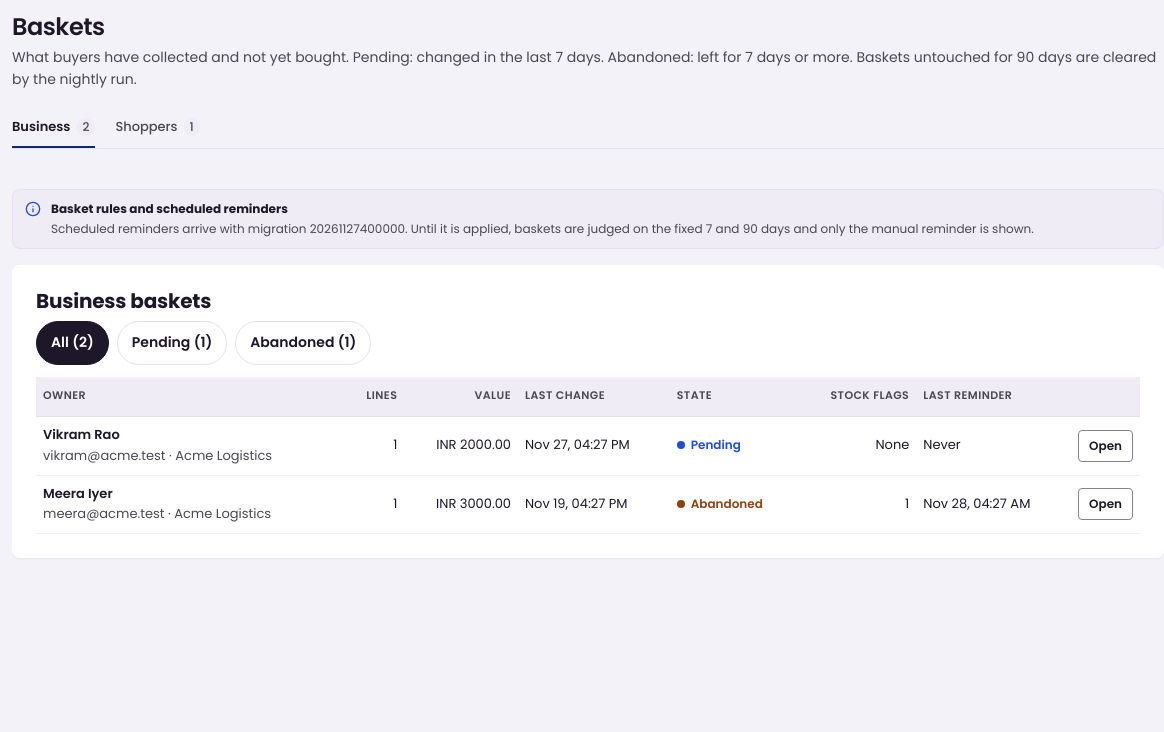
OperatorBaskets › says a sent reminder, and shoppers are reminded by user id
Click the tab "Shoppers 1". click: (158,127)
box: [115, 107, 200, 148]
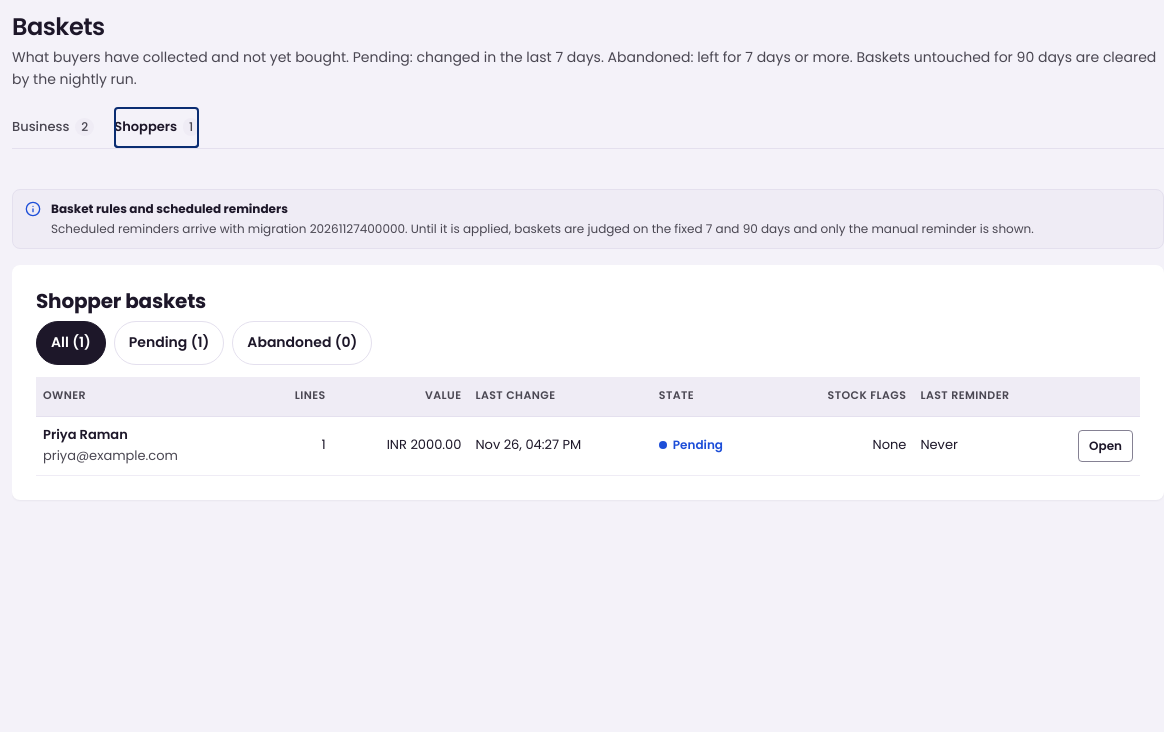
Click the button named "Open Priya Raman". click: (1106,446)
box: [1078, 430, 1133, 462]
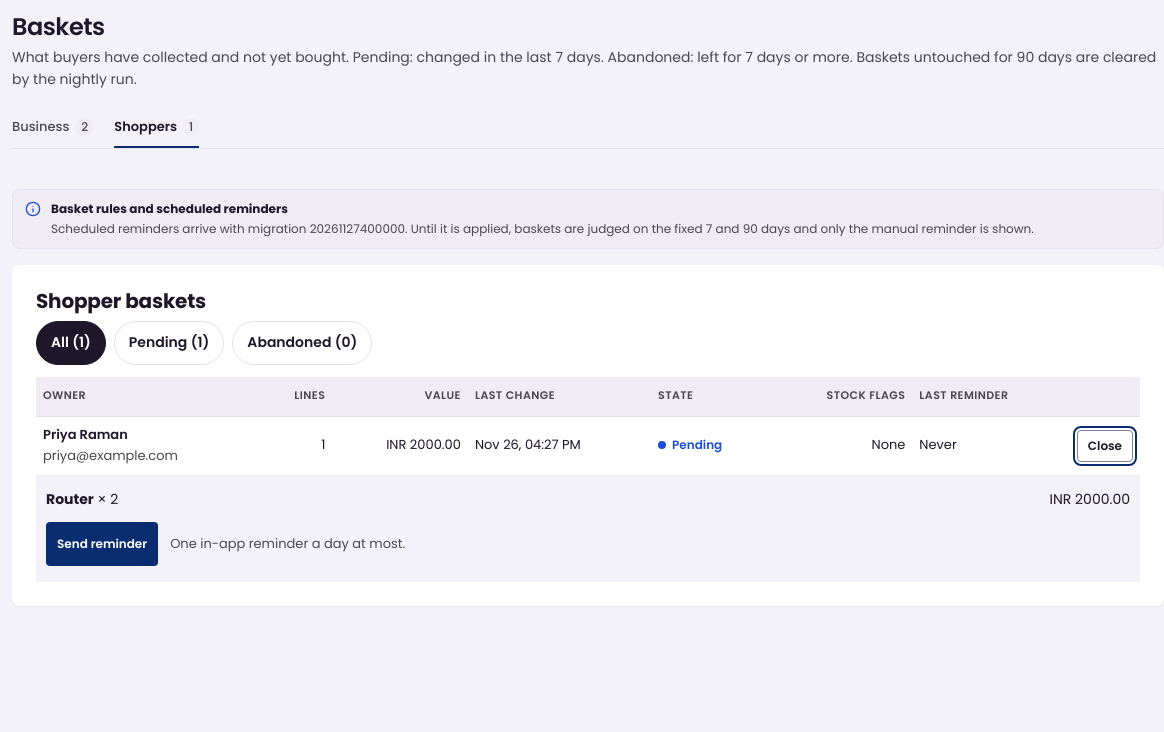
Click the button "Send reminder". click: (102,544)
box: [46, 522, 158, 566]
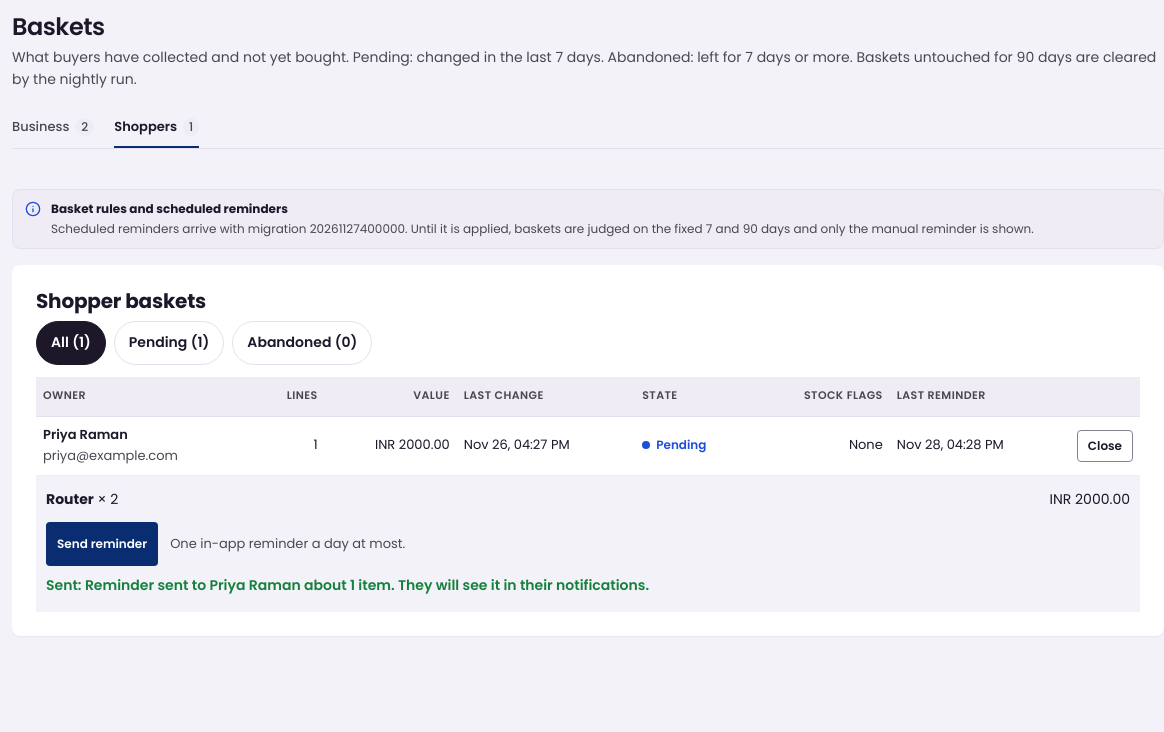
Now the message shows "Reminder sent to Priya Raman about 1 item", box [85, 575, 649, 595]
